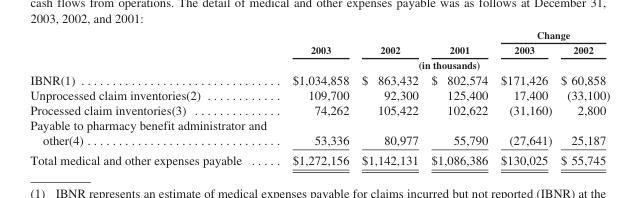table: (29, 28, 609, 167)
table column: (29, 28, 278, 167), (278, 28, 354, 167), (354, 28, 424, 167), (424, 28, 493, 167), (493, 28, 555, 167), (555, 28, 609, 167)
table column header: (29, 28, 609, 71)
table row: (29, 117, 609, 149), (29, 149, 609, 167), (29, 101, 609, 117), (29, 42, 609, 57), (29, 71, 609, 86), (29, 86, 609, 101), (29, 28, 609, 42), (29, 57, 609, 71)
table spanning cell: (278, 57, 609, 71), (278, 28, 354, 57), (354, 28, 424, 57), (424, 28, 493, 57), (493, 28, 609, 42)
